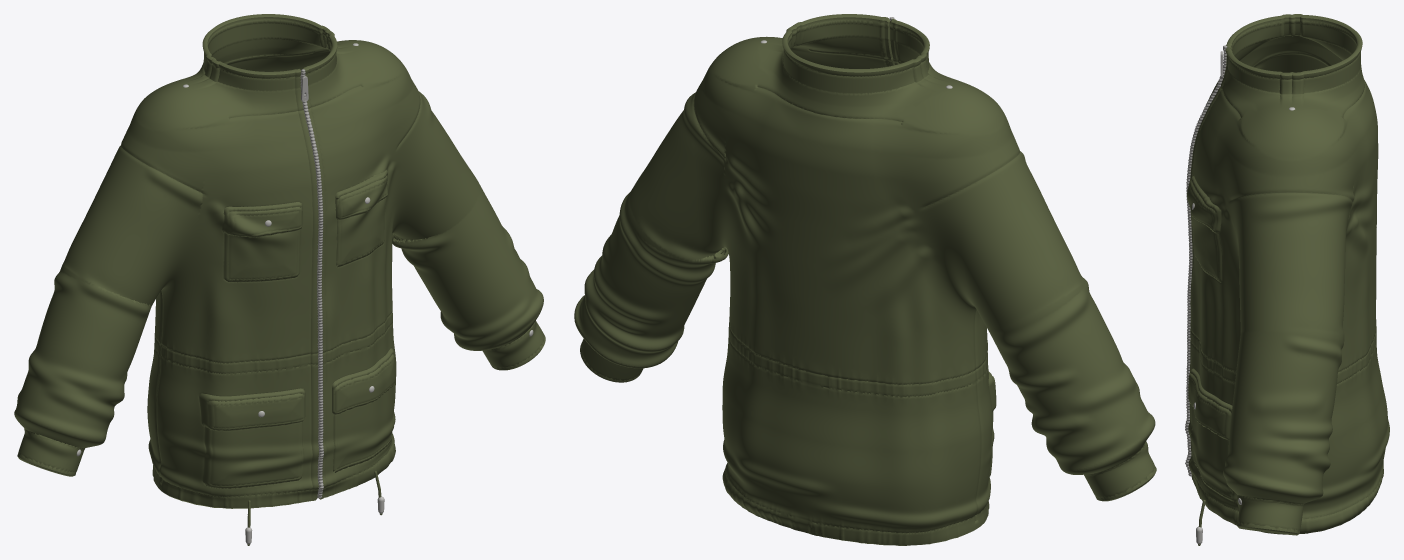
Rendered from 11_chaqueta_utility_cremallera.glb.
The picture shows the model from 3 angles, left to right: view 1: azimuth 30°, elevation 25°; view 2: azimuth 150°, elevation 25°; view 3: azimuth 270°, elevation 25°; orthographic projection. The views are drawn at different scales.
Visible parts, largest first — view 1: body, zipper; view 2: body; view 3: body, zipper.
Part boxes in pixels (x1,y1,x2,y2): body: (14, 14, 545, 508); zipper: (300, 69, 323, 498); body: (574, 14, 1156, 545); body: (1187, 14, 1389, 535); zipper: (1185, 45, 1227, 476).
Size of the model in its own units: 1.01 by 0.848 by 0.334.
